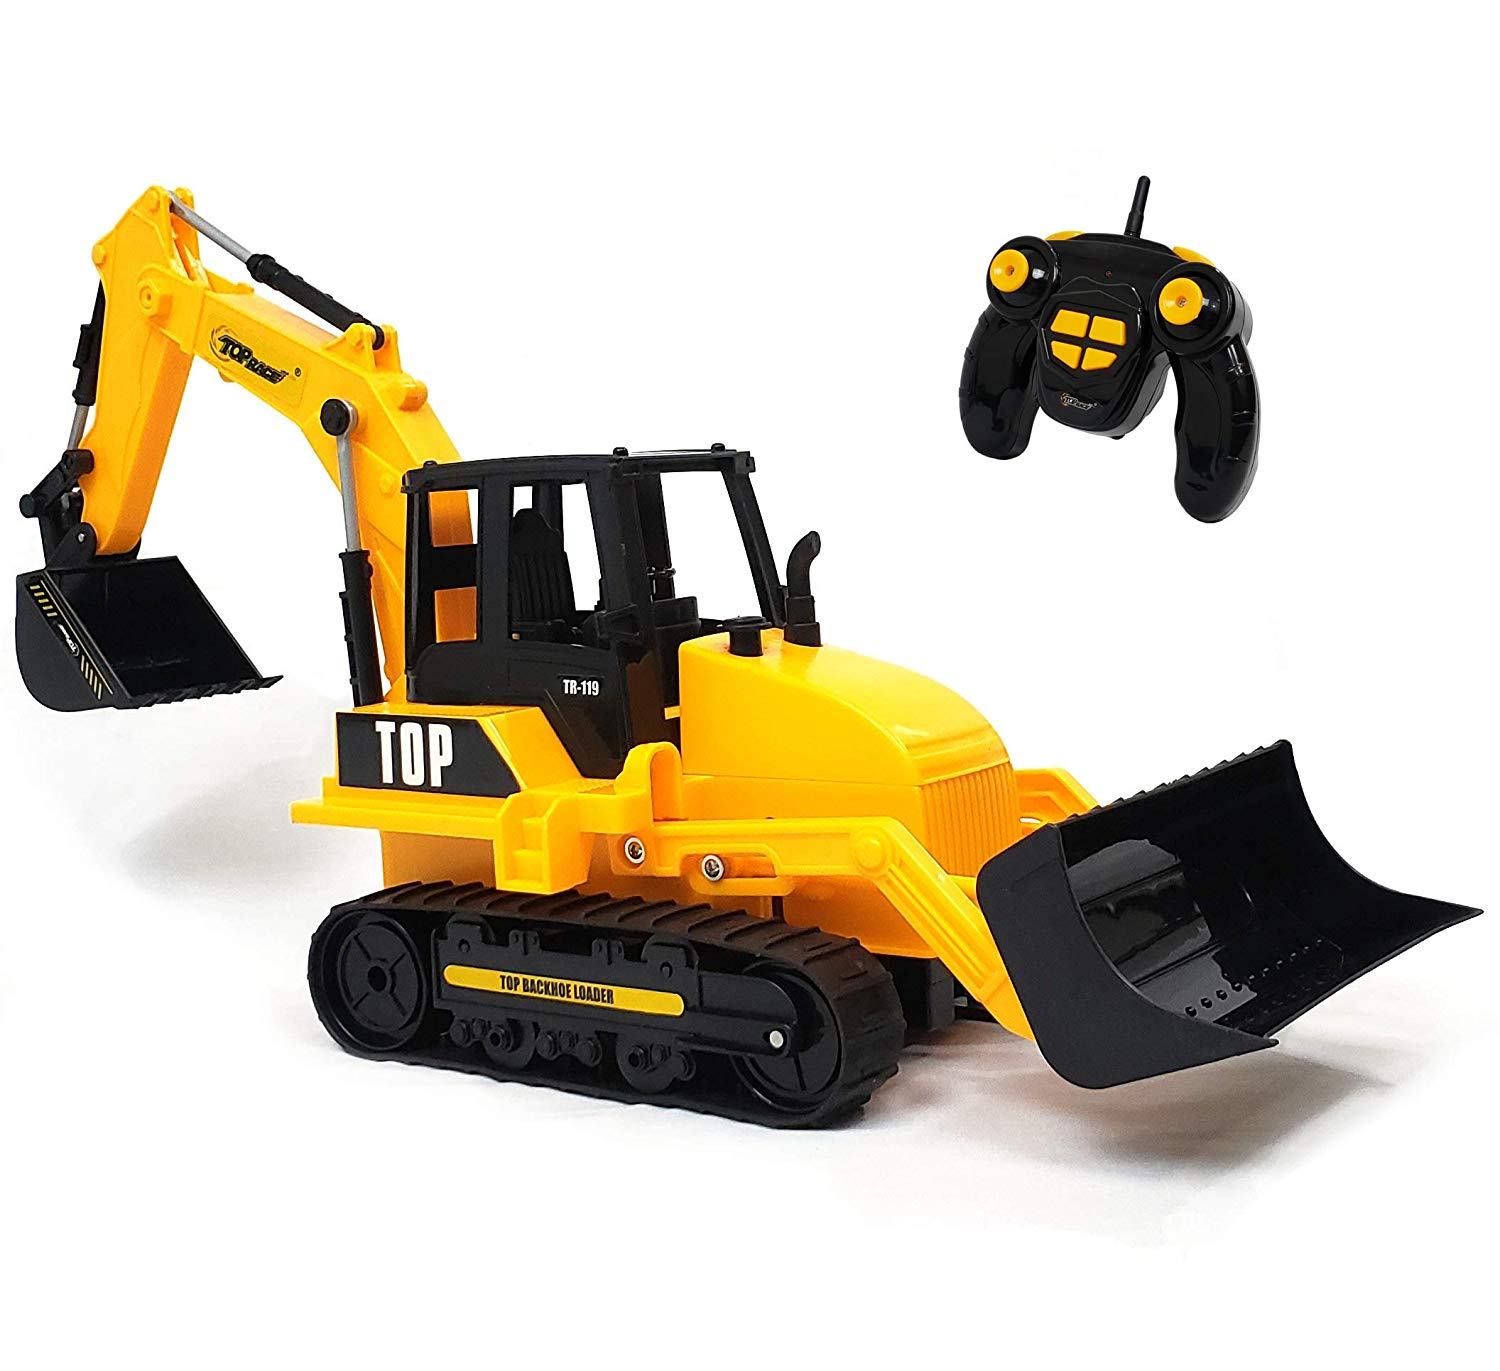backhoe: (14, 182, 1052, 1163)
